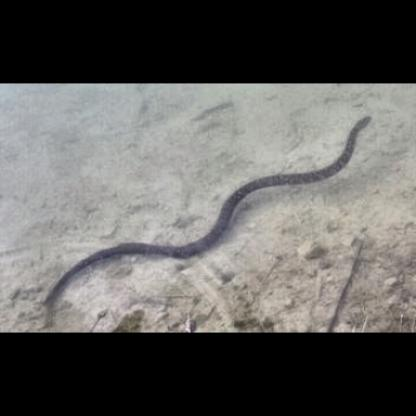Snake: (43, 111, 374, 309)
